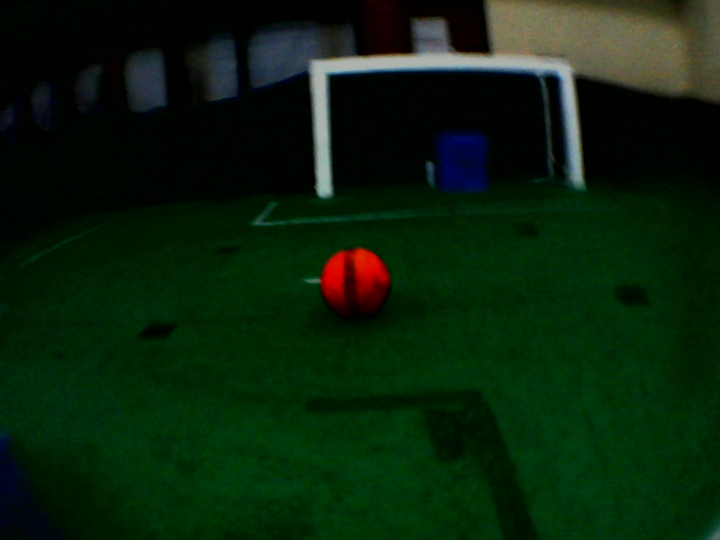bola: (313, 240, 397, 322)
